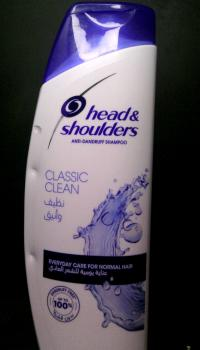dent_unacceptable: (27, 250, 40, 265), (28, 164, 40, 179), (32, 124, 43, 137)
